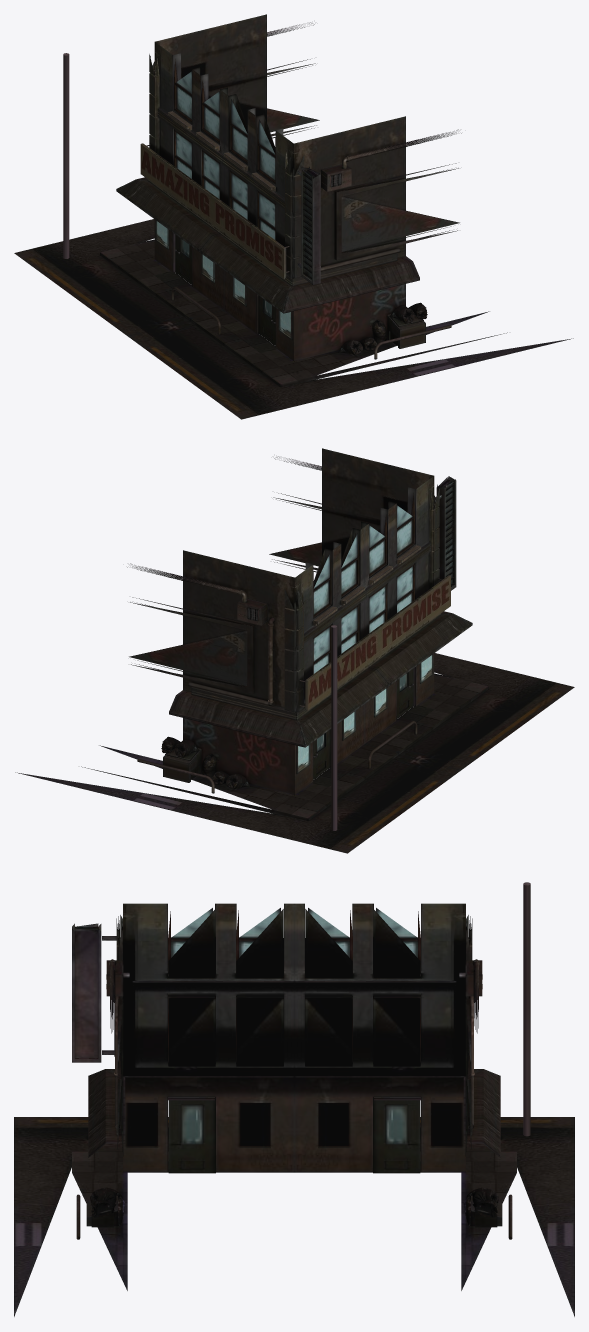
The model's file is build.fbx.
The picture shows the model from 3 angles, top to bottom: view 1: azimuth 30°, elevation 25°; view 2: azimuth 150°, elevation 25°; view 3: azimuth 270°, elevation 25°; orthographic projection. The views are drawn at different scales.
Parts seen in each view (by area): view 1: Object008; view 2: Object008; view 3: Object008.
Boxes of the visible parts, left/top/right/bottom form: Object008: left=14, top=14, right=573, bottom=419; Object008: left=15, top=448, right=574, bottom=853; Object008: left=14, top=882, right=574, bottom=1316.
Bounding box in the file's own units: 1519 × 963 × 1794.
1 material, 1 textured.
